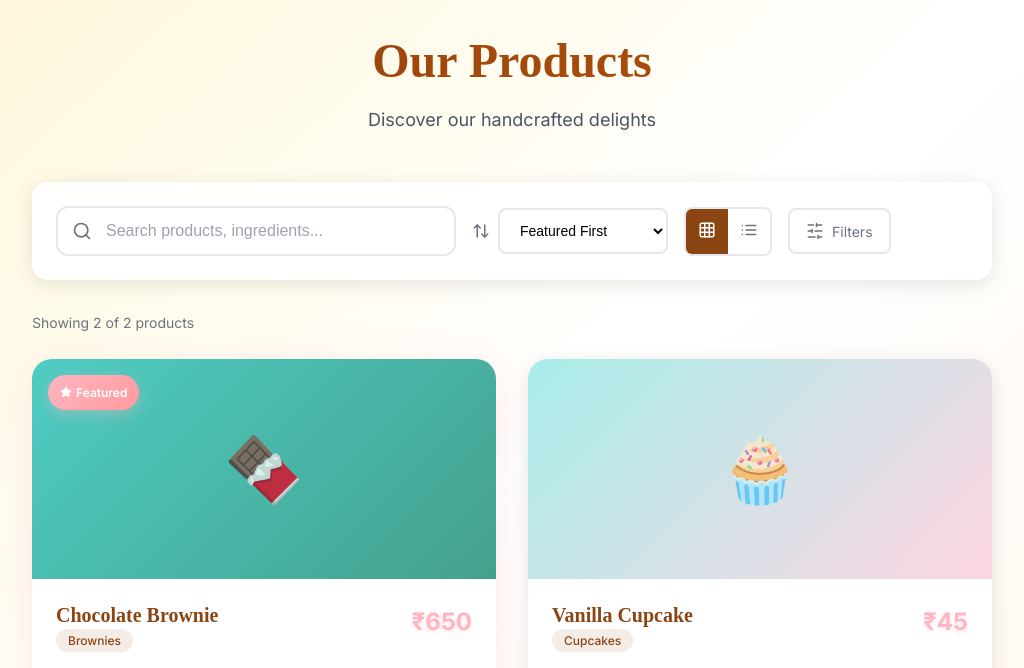
Test: Products Component › renders category filters
Check: the heading "Chocolate Brownie" is shown, box [56,603,218,627]
What coordinates should you click on to do the following:
click the button "Filters"
I would click on:
 (839, 231)
Its box is [788,208,890,254].
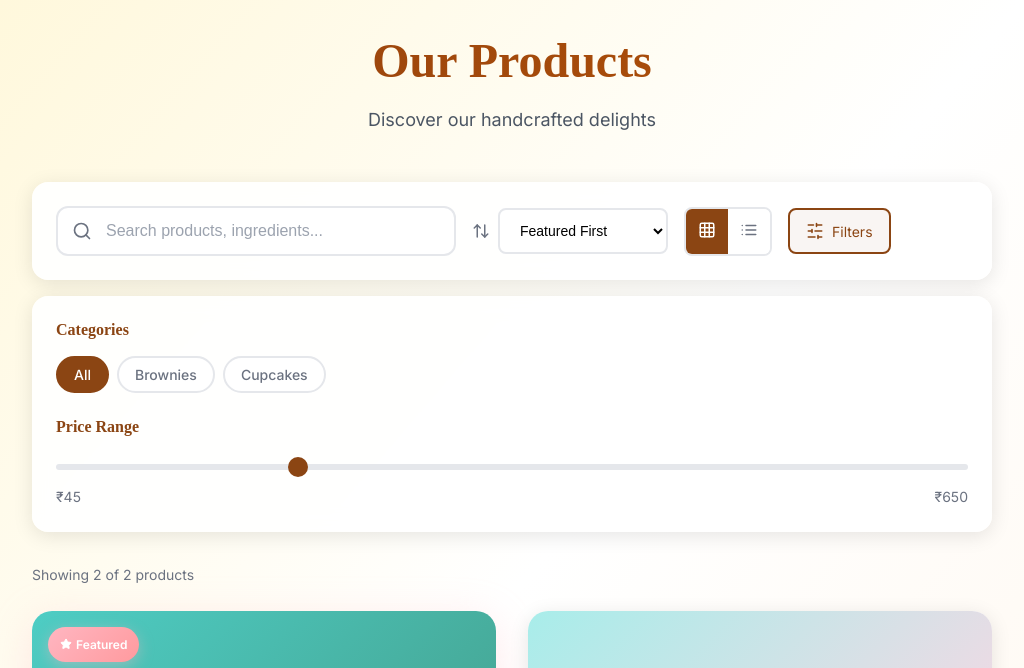
Check: the heading "Categories" is shown, box [56,321,129,338]
Check: the button "All" is shown, box [56,356,109,393]
Check: the button "Brownies" is shown, box [117,356,215,393]
